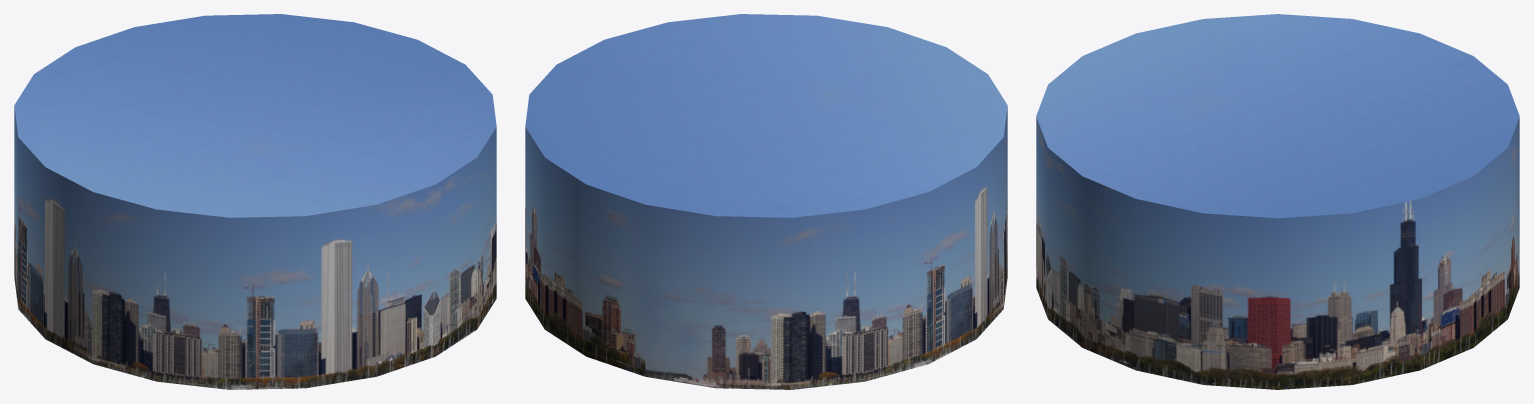
Rendered from panorama_fbx.fbx.
The picture shows the model from 3 angles, left to right: view 1: azimuth 30°, elevation 25°; view 2: azimuth 150°, elevation 25°; view 3: azimuth 270°, elevation 25°; orthographic projection.
Visible parts, largest first — view 1: panorama; view 2: panorama; view 3: panorama.
Part boxes in pixels (box(x1,y1,x2,y2)): panorama: box(14, 14, 496, 389); panorama: box(525, 14, 1007, 389); panorama: box(1036, 14, 1519, 389).
Bounding box in the file's own units: 20.36 × 7.97 × 20.36.
1 material, 1 textured.
